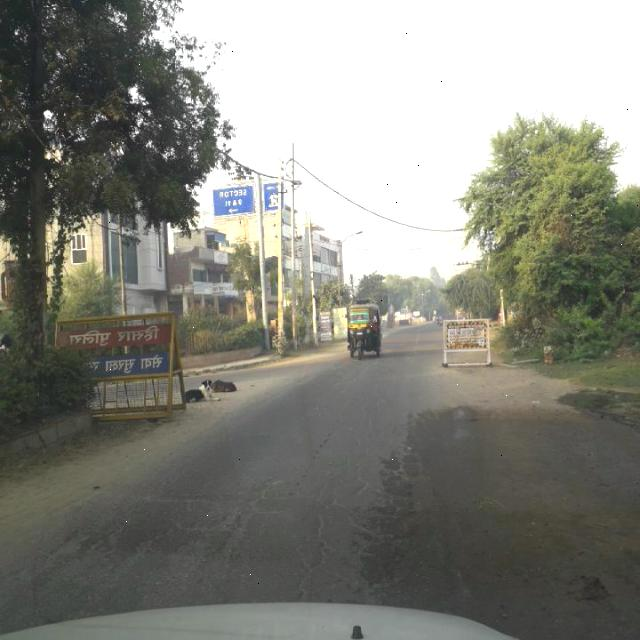D20: (44, 466, 396, 598)
